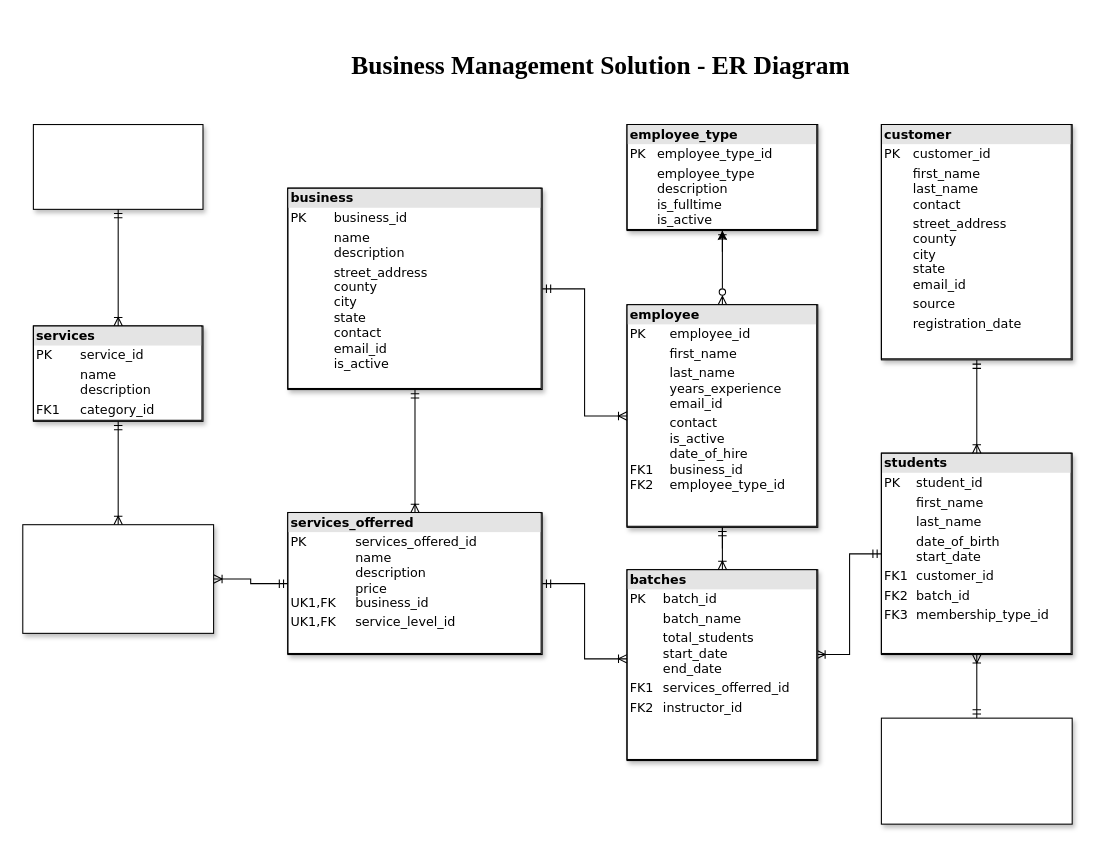
The diagram is 1097 pixels wide and 850 high, and some of its shapes have lost their labels. Here are the shapes that lost their labels. From the top down, the centre of each, then its label:
pixel 118 168: service_category PK category_id name description
pixel 118 580: service_levels PK service_level_id FK name description service_id
pixel 977 772: membership_type PK membership_type_id membership_name description discount_per
